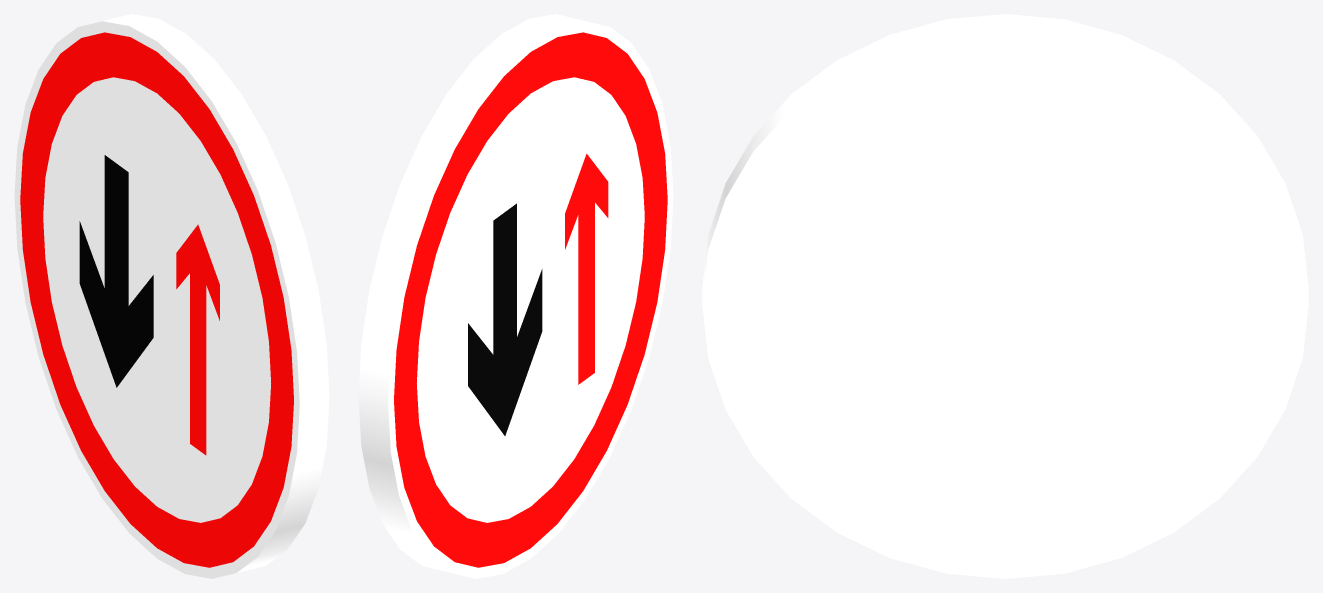
Rendered from Give_Way.glb.
3 renders of one model, left to right at view 1: azimuth 30°, elevation 25°; view 2: azimuth 150°, elevation 25°; view 3: azimuth 270°, elevation 25°, orthographic. The views are drawn at different scales.
Visible parts, largest first — view 1: Give_Way; view 2: Give_Way; view 3: Give_Way.
Boxes of the visible parts, box(x1,y1,x2,y2) form: Give_Way: box(14, 14, 329, 578); Give_Way: box(358, 14, 673, 578); Give_Way: box(702, 14, 1308, 578).
Size of the model in its own units: 0.075 by 1 by 1.
